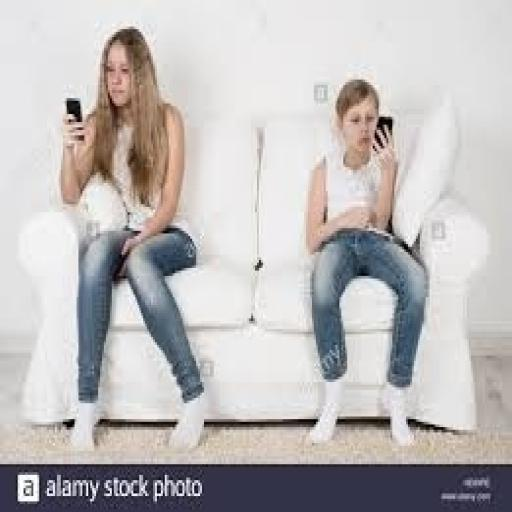sitting: (55, 24, 208, 451), (302, 74, 430, 448)
